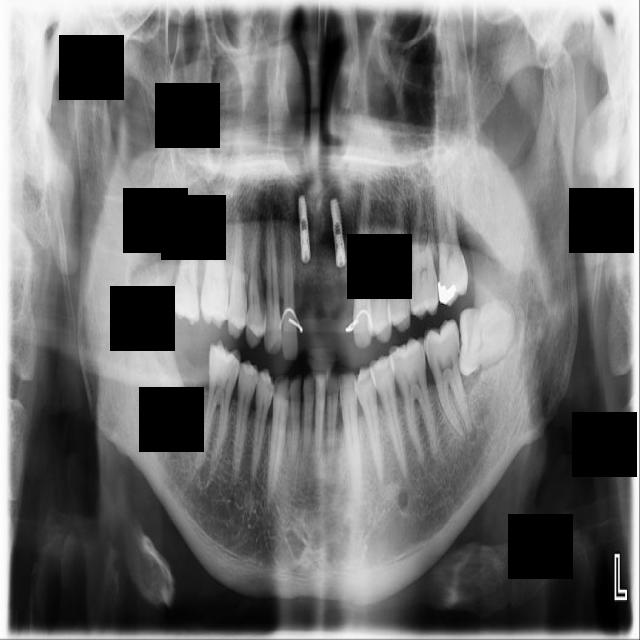52: (437, 244, 470, 308)
73: (590, 574, 598, 586)
BioHorizons Implant: (432, 173, 469, 307)
Biomet 3i Implant: (458, 300, 516, 378)
Blue Sky Bio Implant: (421, 317, 474, 443)
Caries: (172, 216, 200, 327)
